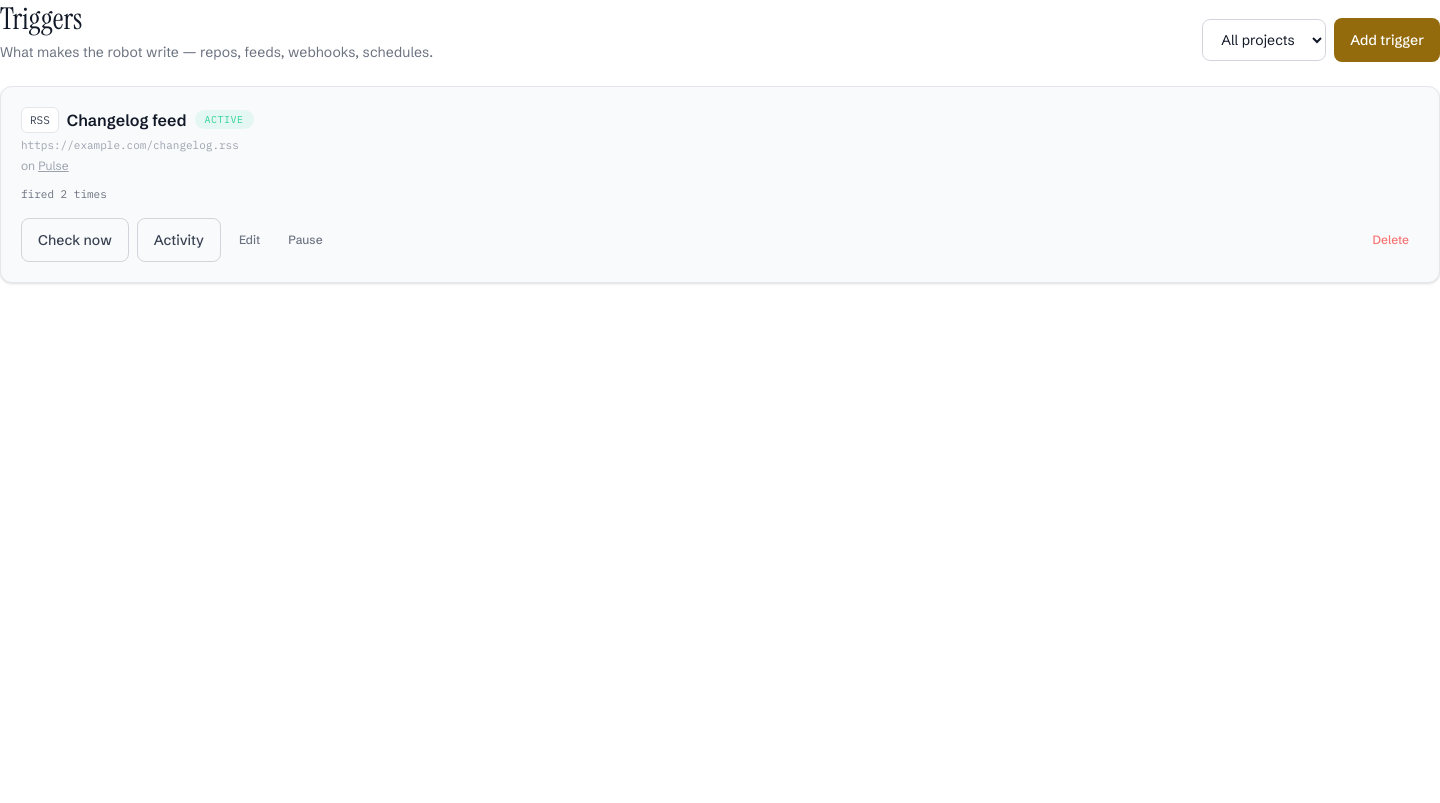
Scenario: the builder › shows only the fields the chosen kind accepts
Click the button "Add trigger": [1387, 40] box [1334,18,1439,62]
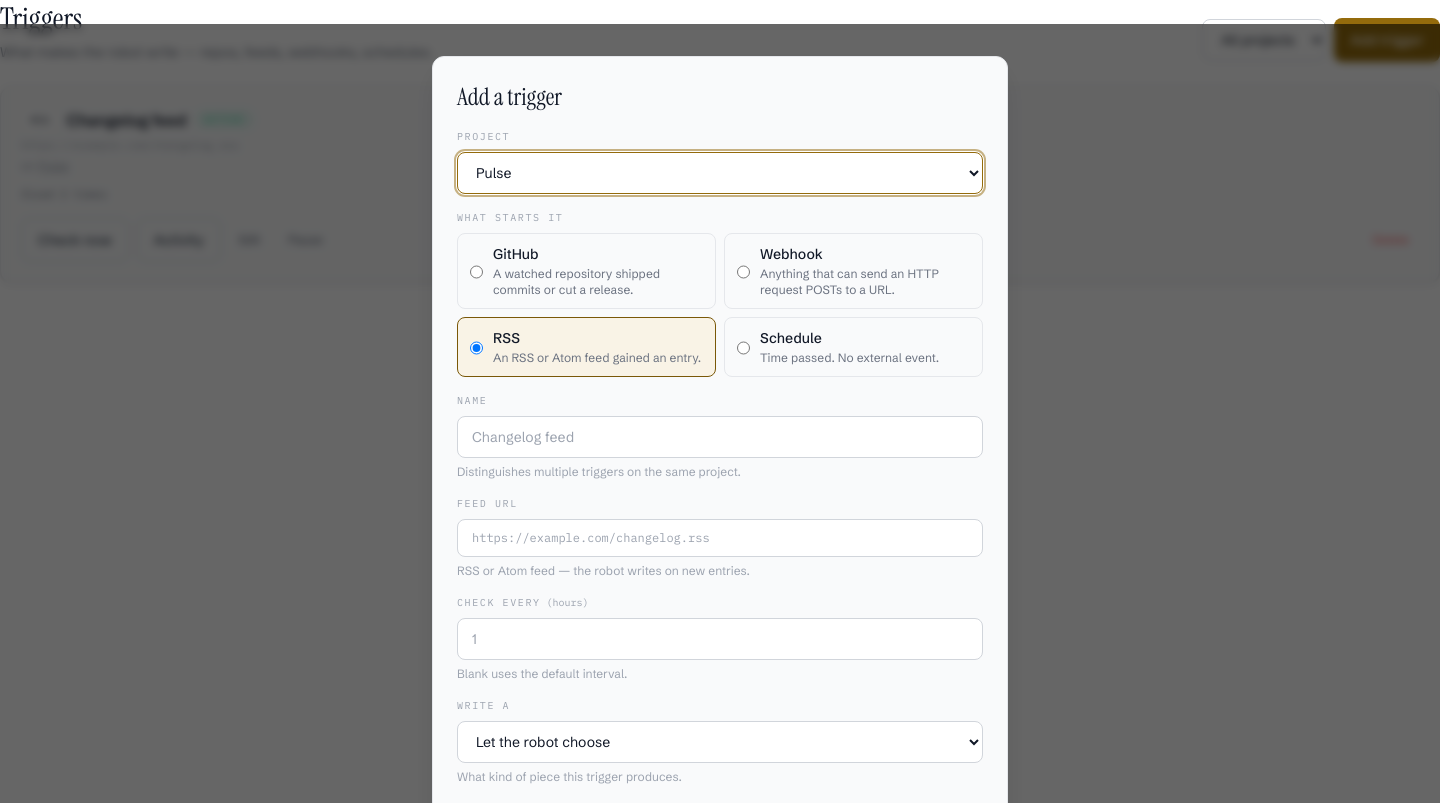
Expected: the field labelled "Topic" is not shown
Now the field labelled "Feed URL" is shown, box [457,519,983,557]
Click the radio button labelled "Schedule Time passed. No external event.": [744, 348] box [737,330,750,366]
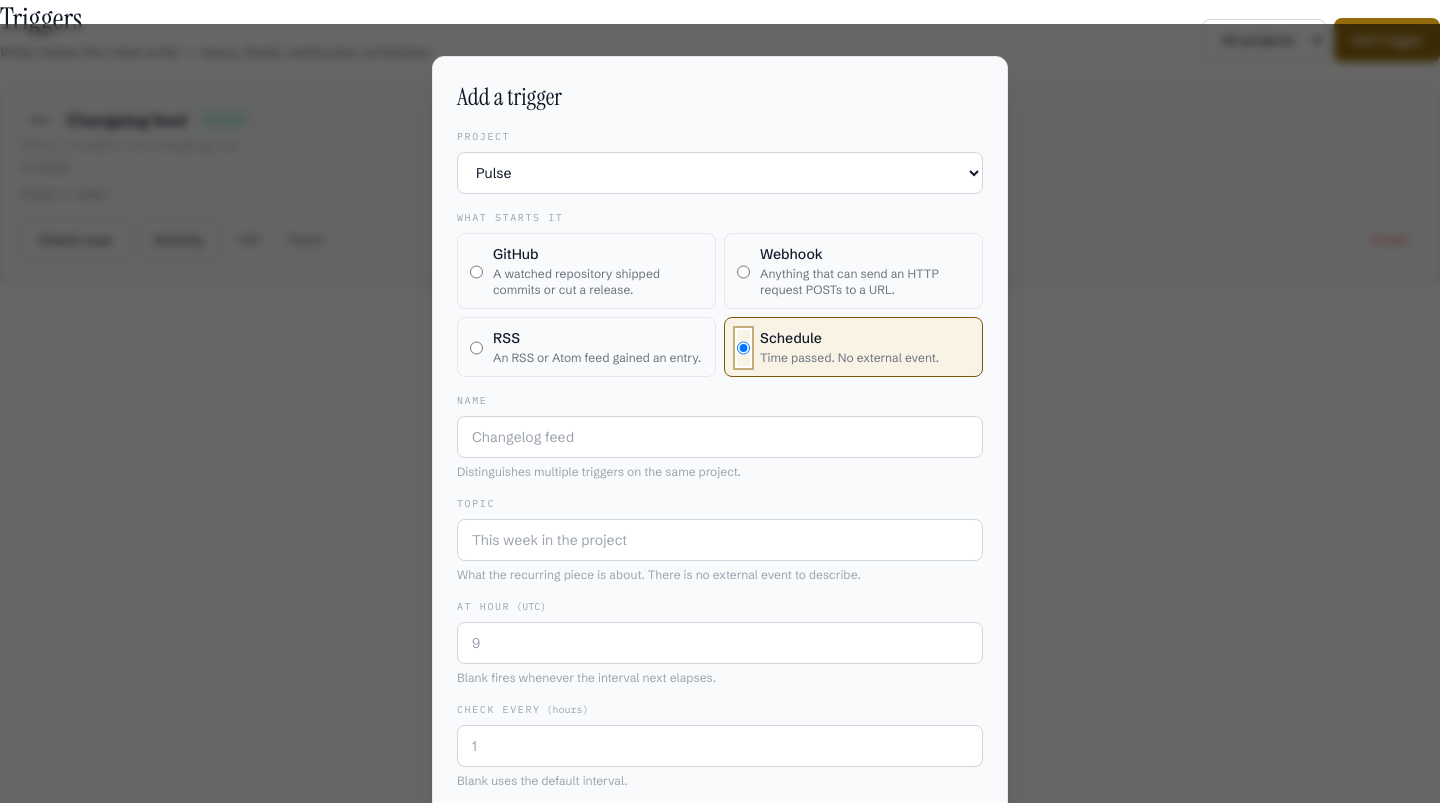
Now the field labelled "Topic" is shown, box [457,519,983,561]
Now the label labelled "Feed URL" is gone
